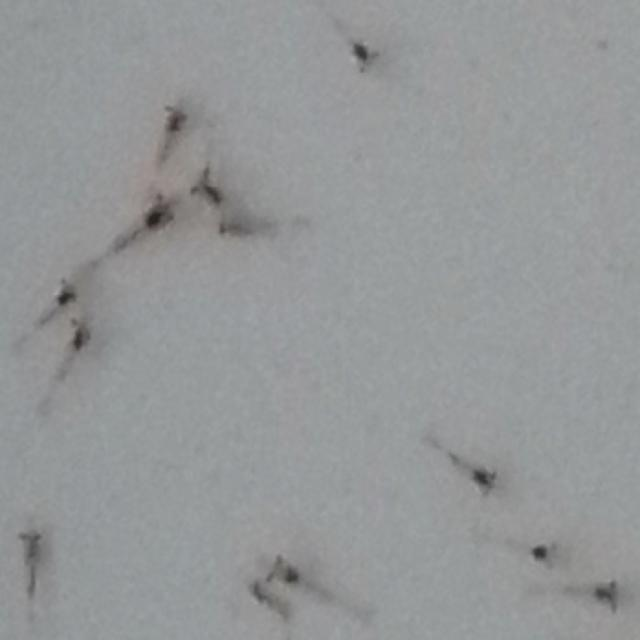shrimp-seed: (248, 574, 295, 622), (590, 572, 628, 618), (40, 277, 79, 320), (16, 524, 48, 576), (158, 102, 192, 150), (269, 548, 309, 588), (143, 190, 180, 232), (348, 36, 382, 78), (188, 165, 225, 202), (528, 534, 562, 572), (466, 461, 500, 497), (63, 320, 94, 357), (214, 216, 256, 243)
